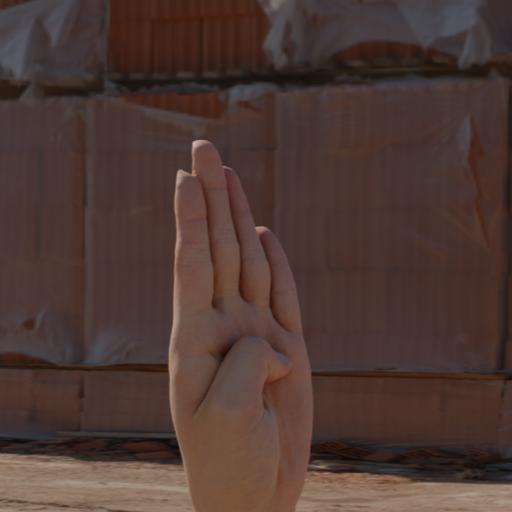B: (157, 129, 325, 512)
